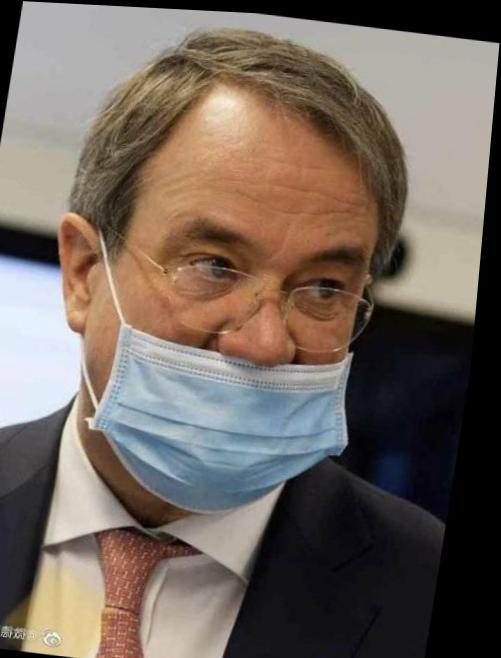WRONG: (95, 171, 395, 524)
